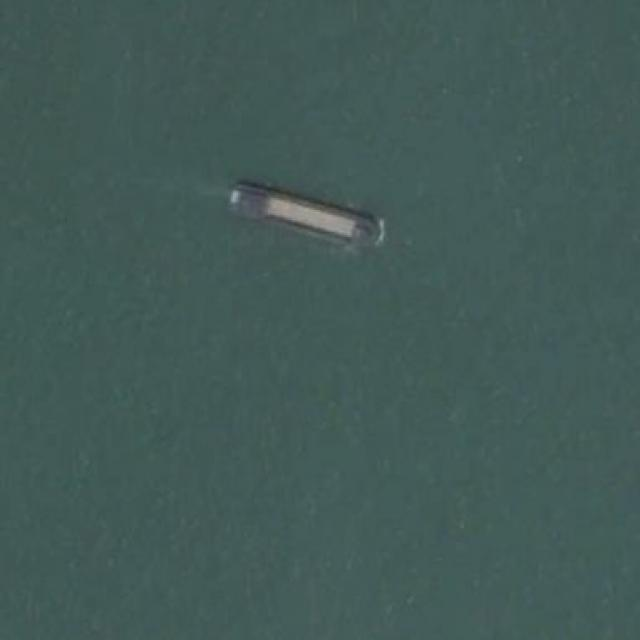boat: (224, 179, 386, 254)
